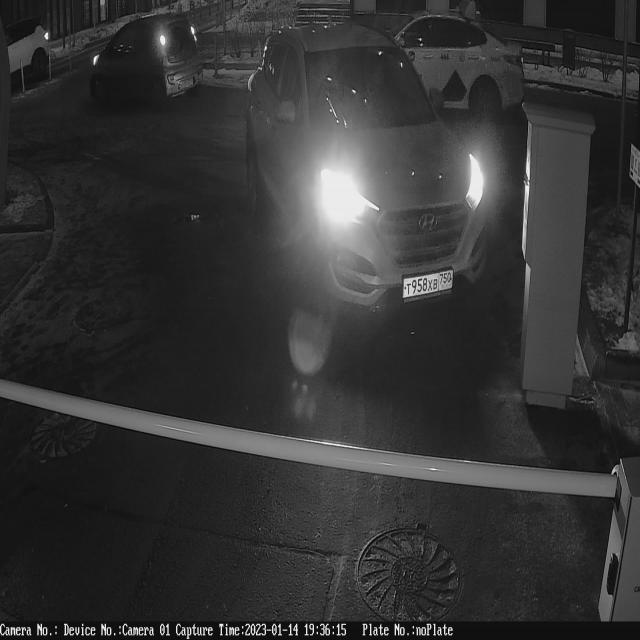car-plate-numbers: (400, 269, 458, 310)
